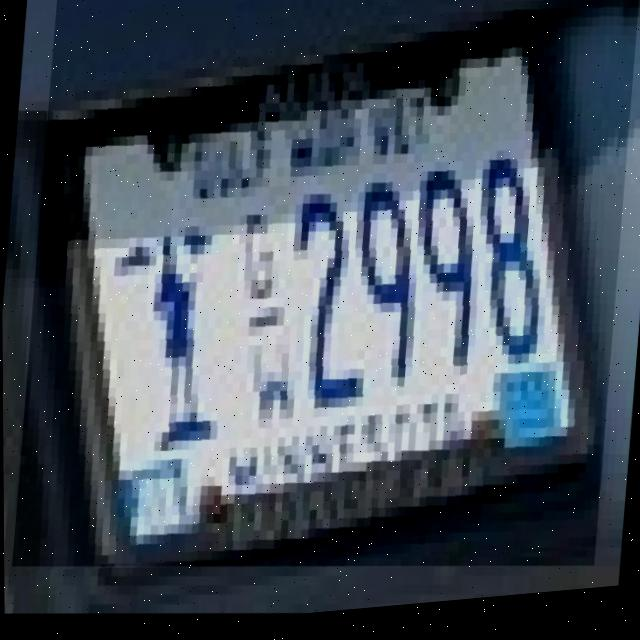LicensePlate: (7, 0, 640, 617)
